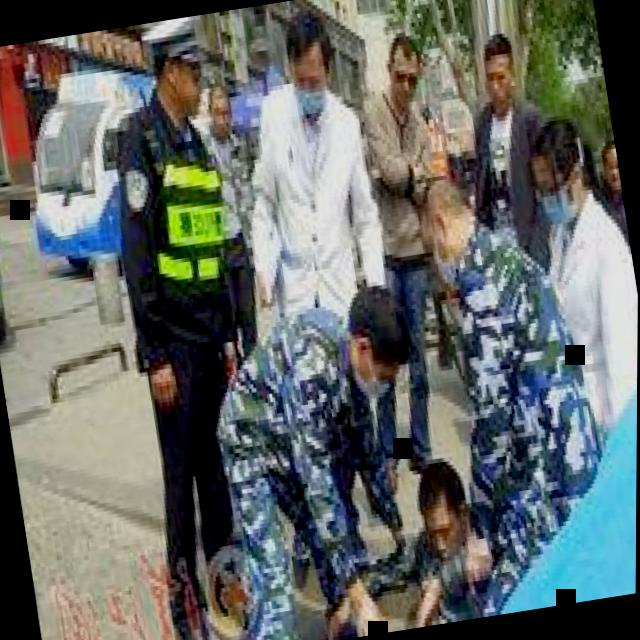Fall-Detected: (253, 420, 503, 640)
